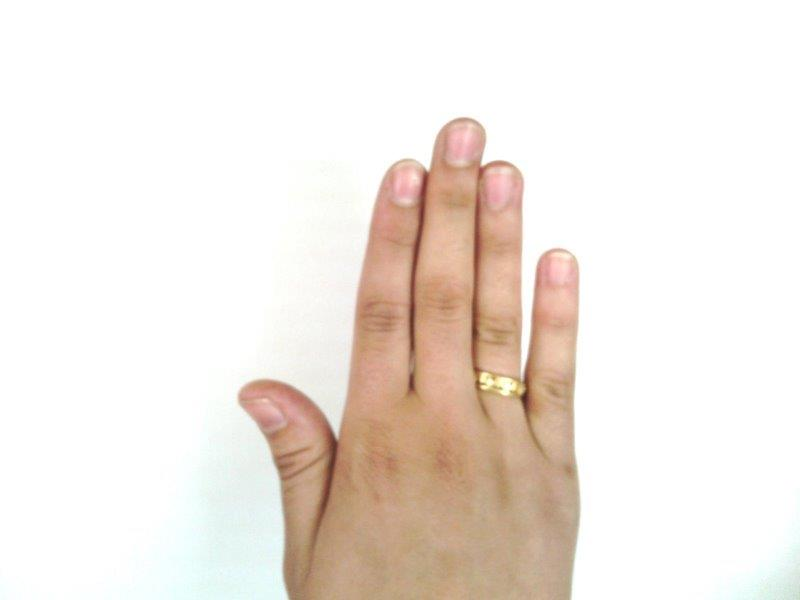hand: (239, 116, 577, 594)
